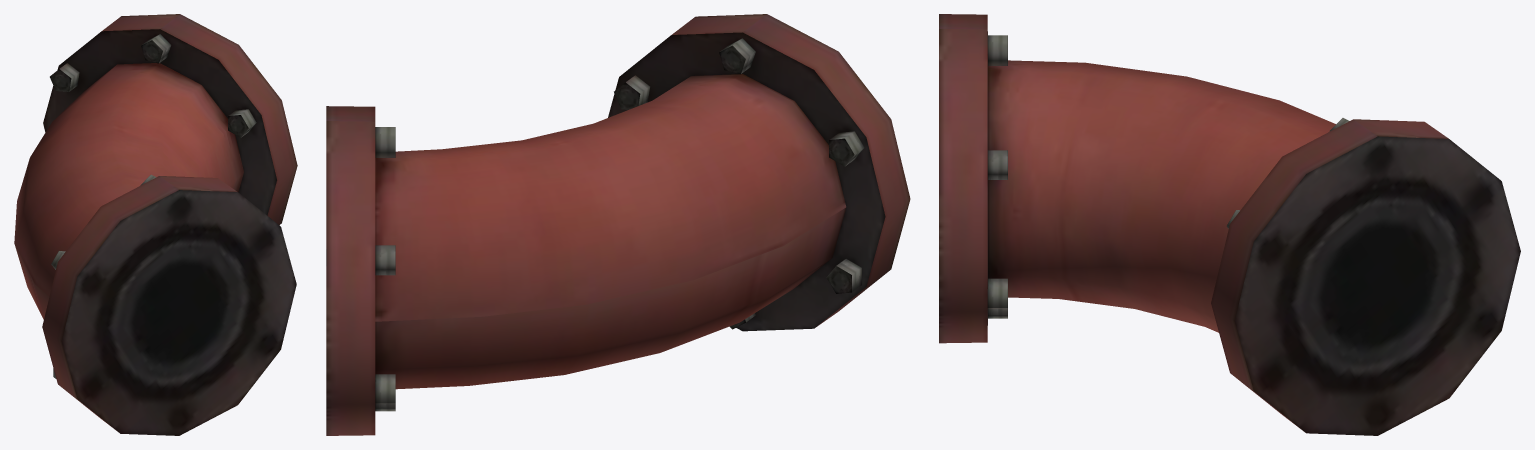
The picture shows the model from 3 angles, left to right: view 1: azimuth 30°, elevation 25°; view 2: azimuth 150°, elevation 25°; view 3: azimuth 270°, elevation 25°; orthographic projection. The views are drawn at different scales.
Visible parts, largest first — view 1: body0_model0_lod0_mesh0; view 2: body0_model0_lod0_mesh0; view 3: body0_model0_lod0_mesh0.
Part boxes in pixels (bbox=[...]): body0_model0_lod0_mesh0: bbox=[14, 14, 297, 435]; body0_model0_lod0_mesh0: bbox=[326, 14, 910, 435]; body0_model0_lod0_mesh0: bbox=[939, 14, 1520, 435].
Bounding box in the file's own units: 60.16 × 39.57 × 69.68.
Materials: 1 (1 with a texture image).
